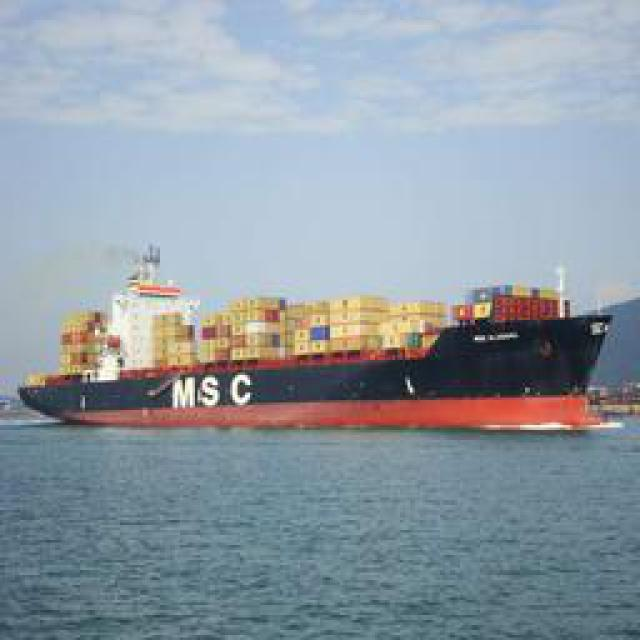Ship: (21, 307, 616, 435)
